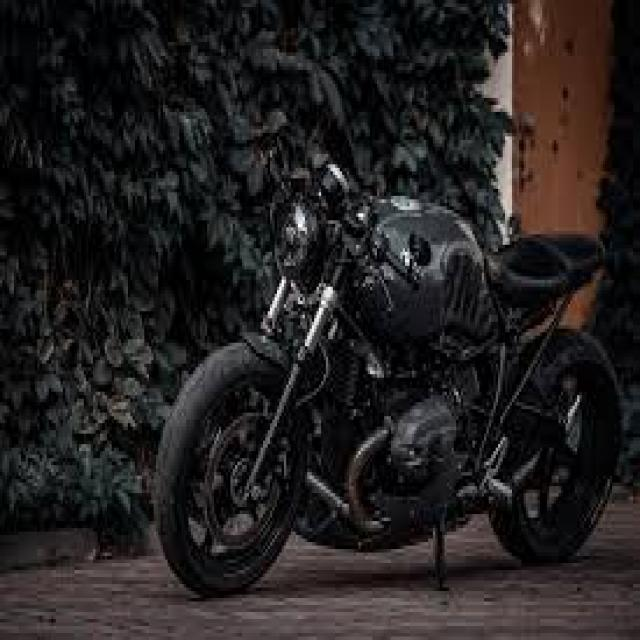Bike: (152, 136, 624, 601)
